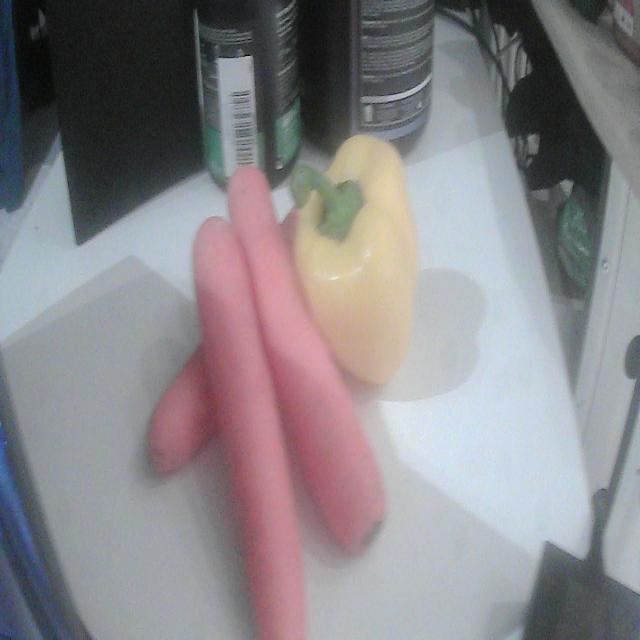Bell Pepper: (292, 135, 418, 373)
Carrot: (226, 161, 388, 560), (194, 218, 304, 639)
